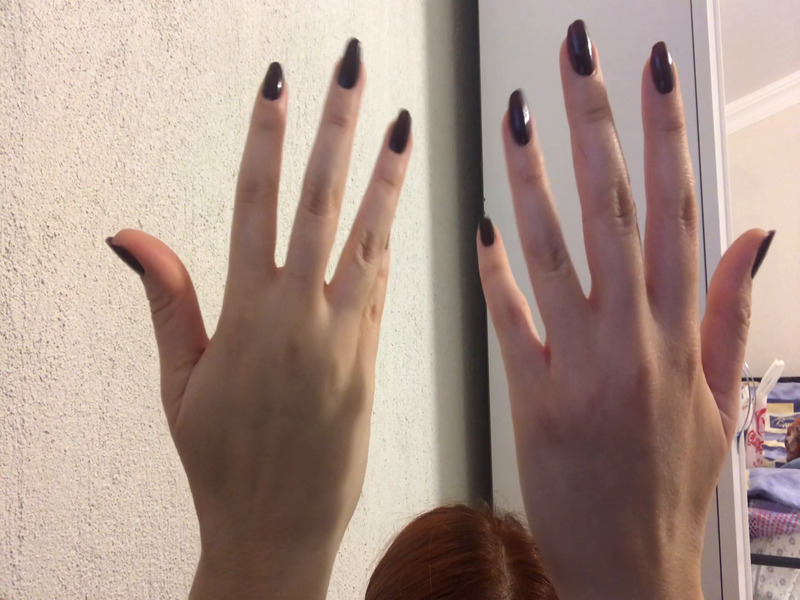hand: (469, 18, 779, 553), (103, 35, 421, 556)
